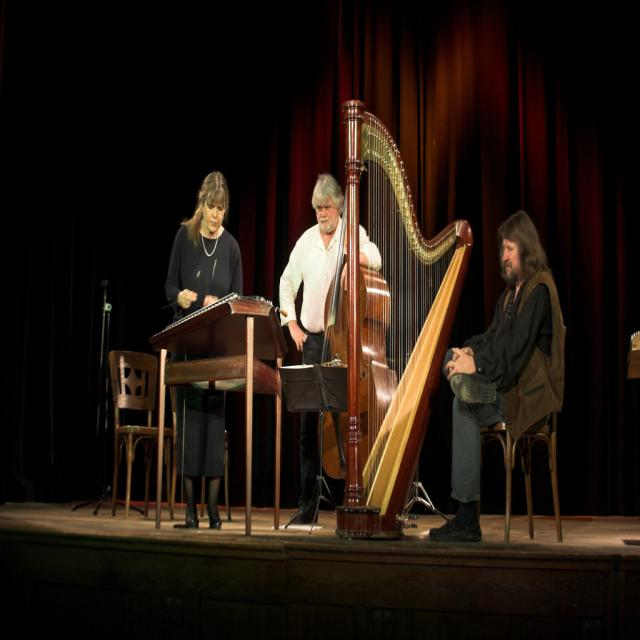harp: (334, 87, 481, 548)
